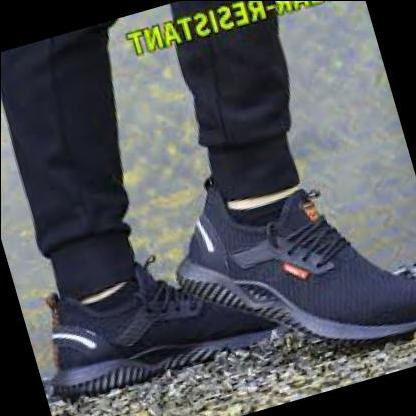safety-shoe: (161, 162, 416, 401), (29, 253, 249, 415)
